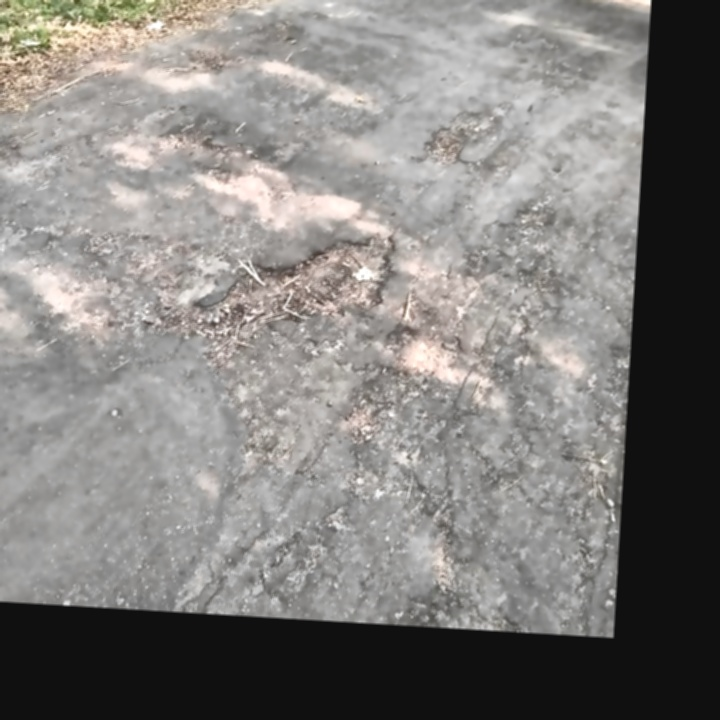pothole: (175, 216, 398, 348), (418, 106, 496, 168), (0, 136, 23, 162)
